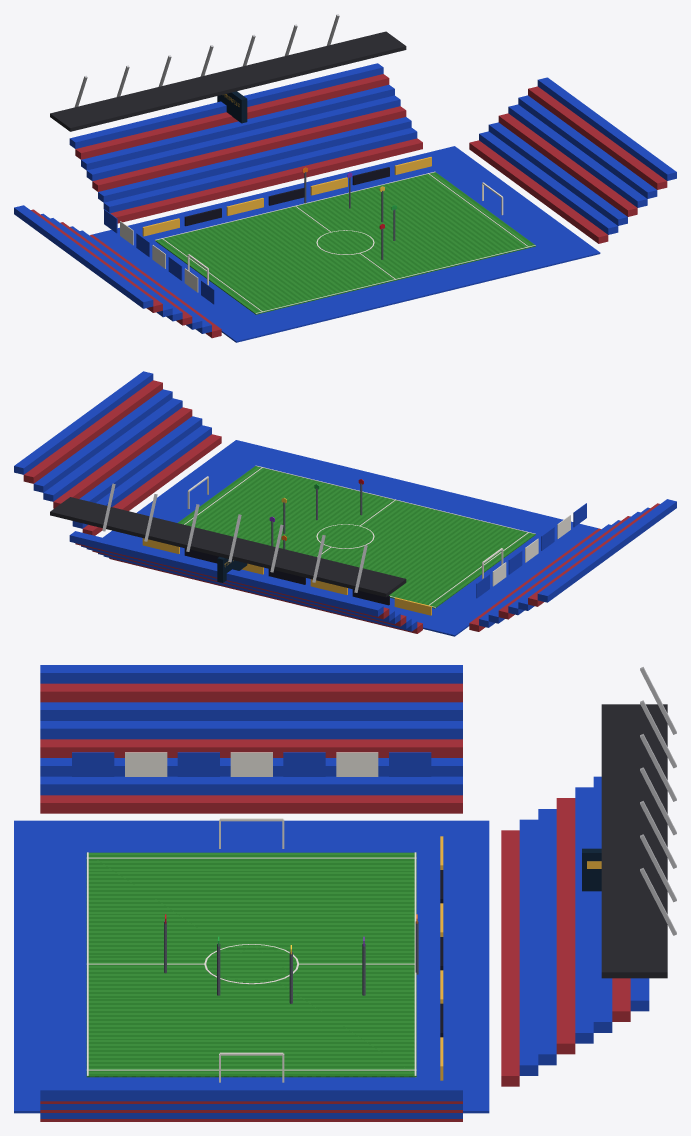
Rendered from decor_meinau_bol.glb.
3 renders of one model, top to bottom at view 1: azimuth 30°, elevation 25°; view 2: azimuth 150°, elevation 25°; view 3: azimuth 270°, elevation 25°, orthographic. The views are drawn at different scales.
Parts seen in each view (by area): view 1: p_box.001, p_box, p_box.037, p_box.016, p_box.017, p_box.015, p_box.014, p_box.018, p_box.013, p_box.019, p_box.020, p_box.021 (+17 smaller); view 2: p_box.001, p_box, p_box.037, p_box.020, p_box.027, p_box.026, p_box.025, p_box.028, p_box.036, p_box.024, p_box.023, p_box.021 (+17 smaller); view 3: p_box.001, p_box, p_box.037, p_box.028, p_box.035, p_box.030, p_box.029, p_box.033, p_box.034, p_box.036, p_box.032, p_box.014 (+24 smaller).
Boxes of the visible parts, <box> form: p_box.001: <box>155,172,535,314</box>; p_box: <box>91,146,600,342</box>; p_box.037: <box>50,31,406,131</box>; p_box.016: <box>92,106,406,191</box>; p_box.017: <box>86,95,400,181</box>; p_box.015: <box>98,117,411,202</box>; p_box.014: <box>103,127,417,213</box>; p_box.018: <box>81,84,394,170</box>; p_box.013: <box>110,138,422,223</box>; p_box.019: <box>75,74,389,159</box>; p_box.020: <box>69,63,383,148</box>; p_box.021: <box>469,140,608,243</box>; p_box.001: <box>178,466,535,608</box>; p_box: <box>103,440,598,636</box>; p_box.037: <box>50,497,406,597</box>; p_box.020: <box>69,531,383,616</box>; p_box.027: <box>23,380,162,483</box>; p_box.026: <box>33,389,172,492</box>; p_box.025: <box>43,398,182,501</box>; p_box.028: <box>14,371,153,474</box>; p_box.036: <box>537,499,676,602</box>; p_box.024: <box>53,407,192,508</box>; p_box.023: <box>79,416,202,502</box>; p_box.021: <box>82,434,221,535</box>; p_box.001: <box>86,852,416,1077</box>; p_box: <box>14,820,489,1113</box>; p_box.037: <box>601,704,667,978</box>; p_box.028: <box>40,1082,462,1101</box>; p_box.035: <box>40,683,462,702</box>; p_box.030: <box>40,776,462,795</box>; p_box.029: <box>40,795,462,813</box>; p_box.033: <box>40,721,462,739</box>; p_box.034: <box>40,702,462,720</box>; p_box.036: <box>40,665,462,683</box>; p_box.032: <box>40,739,462,757</box>; p_box.014: <box>519,819,538,1075</box>.
Bounding box in the file's own units: 38.1 × 7.89 × 25.1.
Materials: 15 (1 with a texture image).
